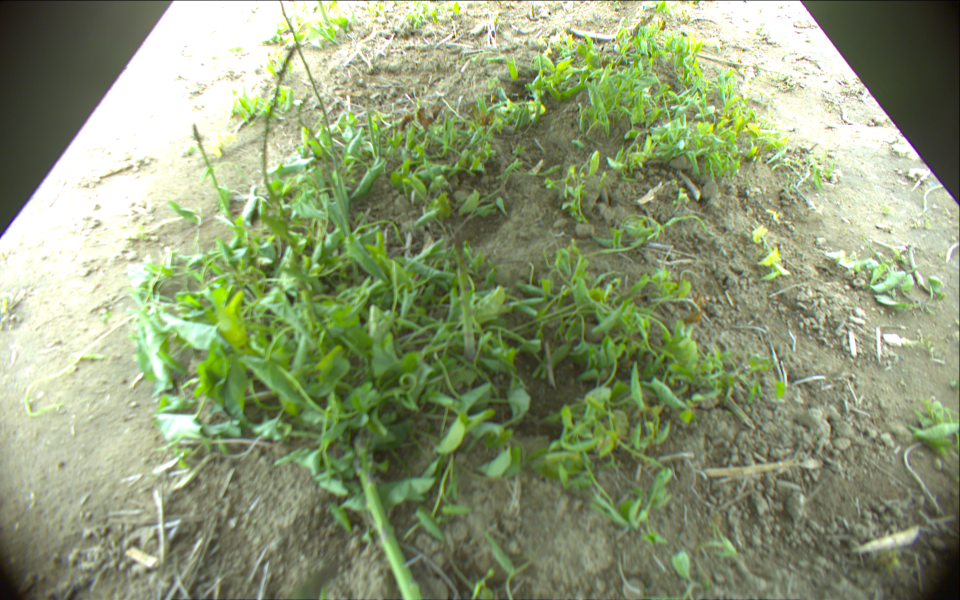aspa: (276, 1, 352, 226), (346, 427, 427, 600), (191, 122, 246, 239), (260, 50, 296, 224)
